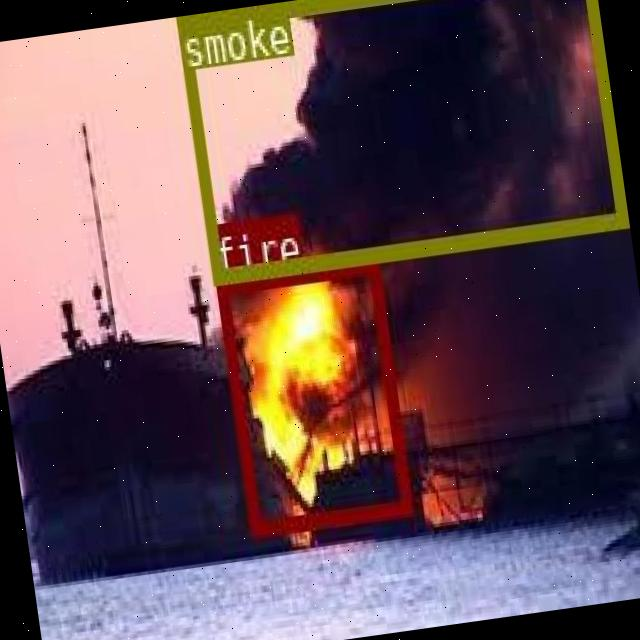fire: (214, 254, 410, 534)
smoke: (176, 0, 624, 280)
